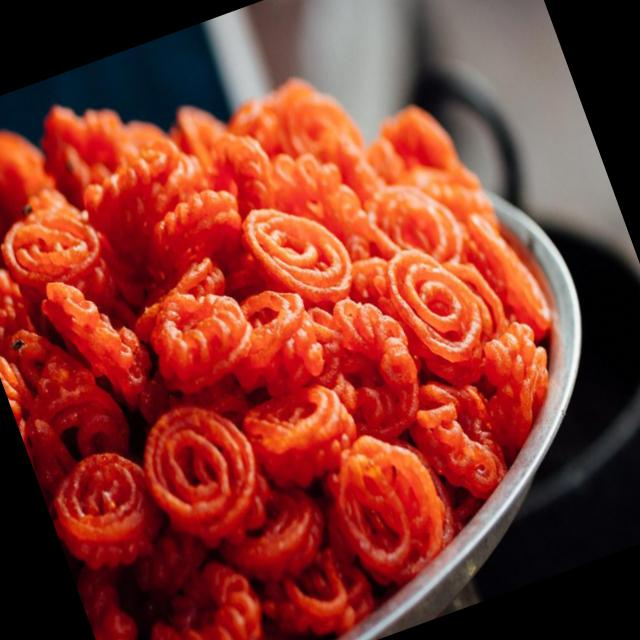jalebi: (0, 22, 626, 640)
